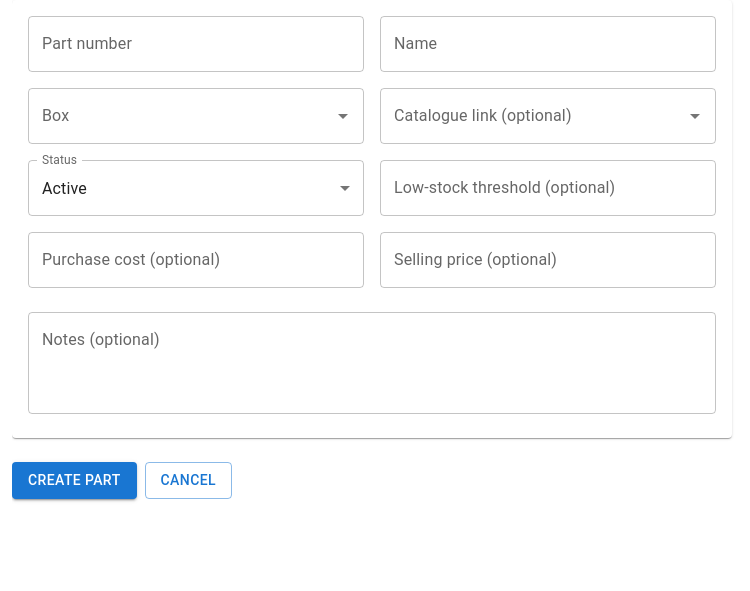
Test: PartForm › shows the server error and stays on the page when create fails
Type "DUP-0001" into the field labelled "Part number" at (196, 44), box x1=28 y1=16 x2=364 y2=72
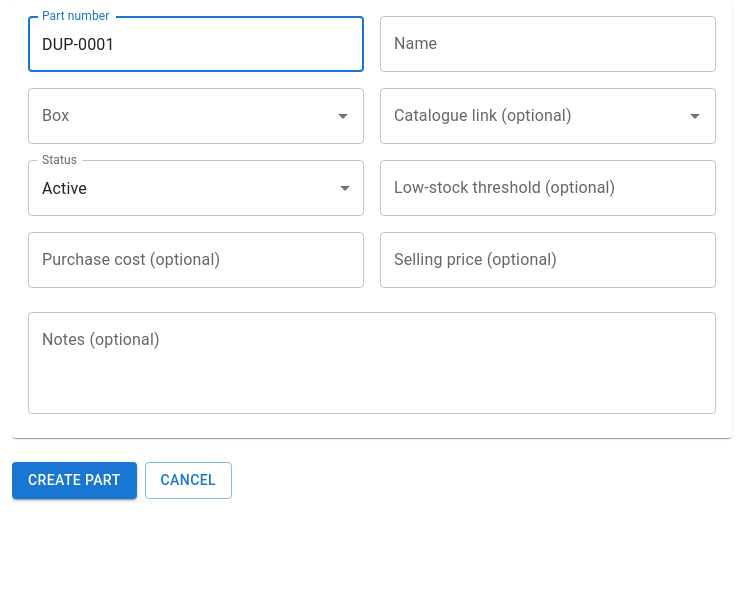
Type "Duplicate Part" into the field labelled "Name" at (548, 44), box x1=380 y1=16 x2=716 y2=72
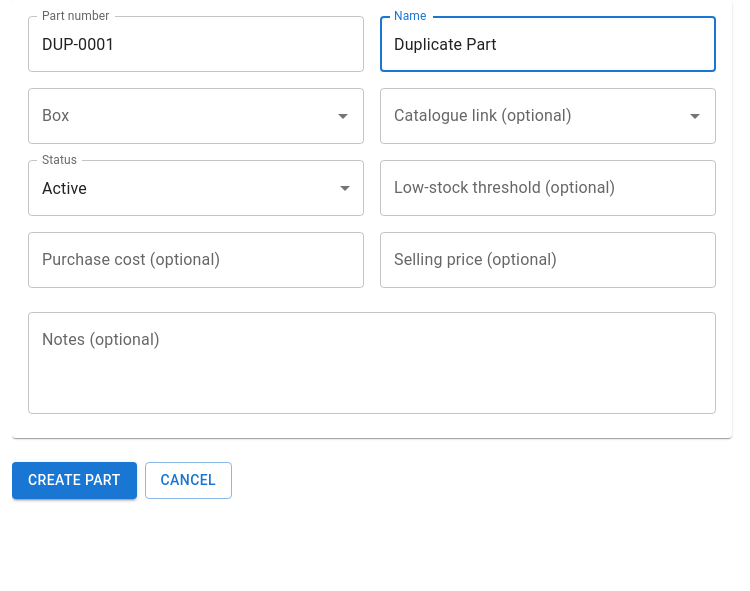
Click the button "Create part" at (74, 480), box x1=12 y1=462 x2=137 y2=498
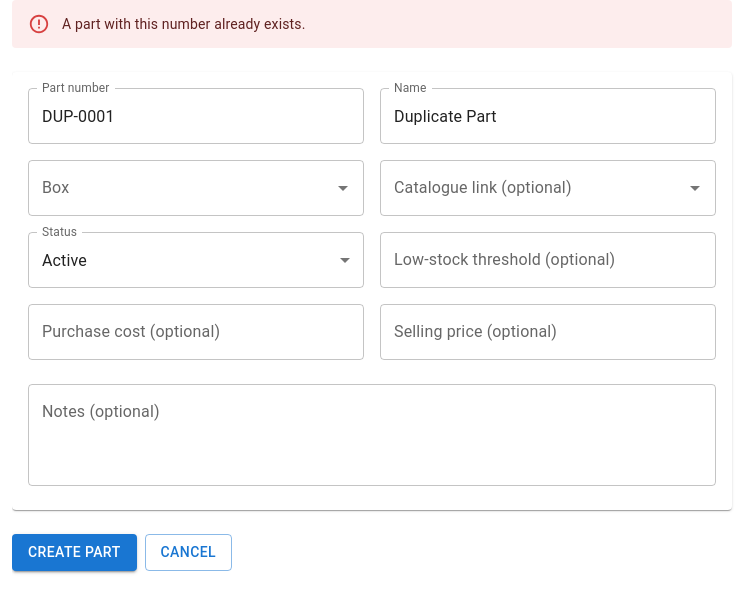
Now the text "A part with this number already exists." is shown, box x1=62 y1=16 x2=306 y2=32
